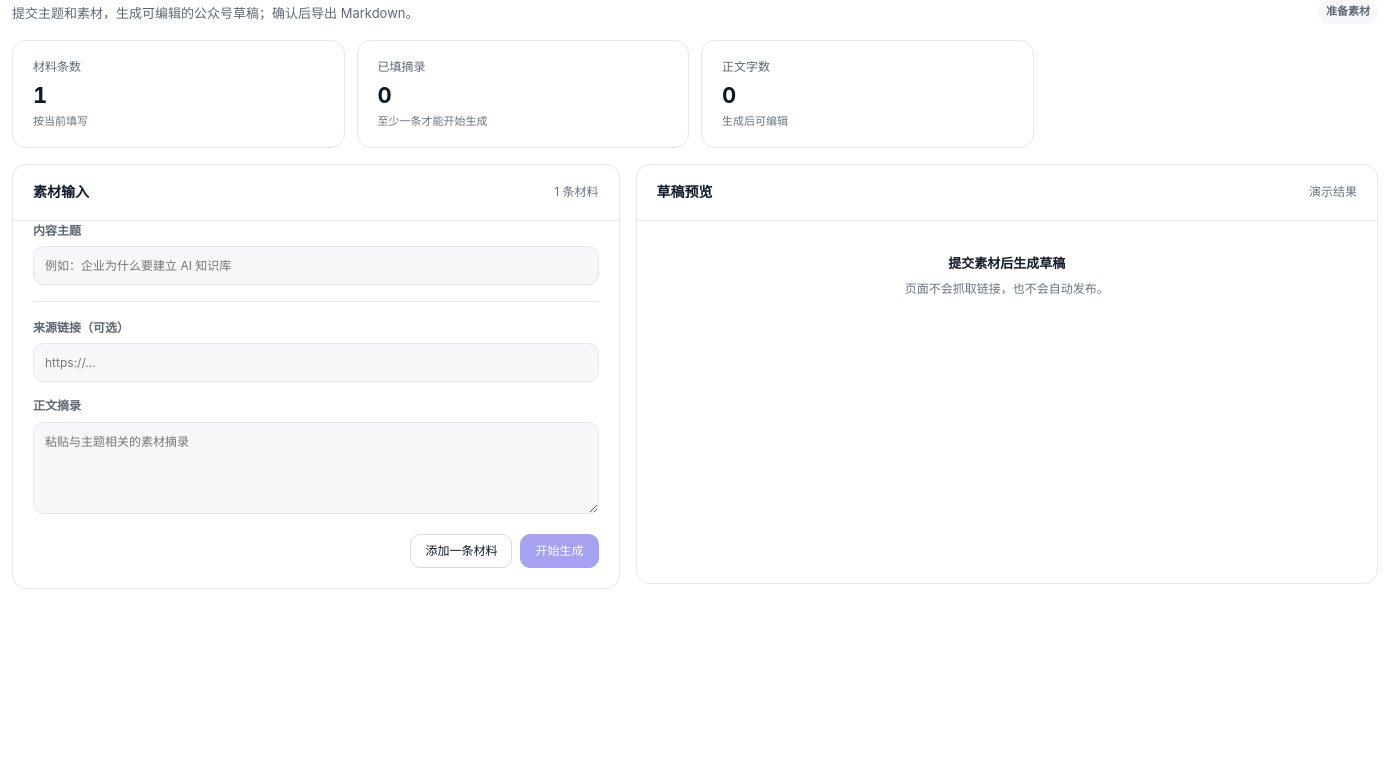
Scenario: ContentWorkbenchPage › shows failed generation recovery and regenerates the same task
In the field labelled "内容主题": (316, 265) top-left (33, 246), bottom-right (598, 285), type "失败选题"
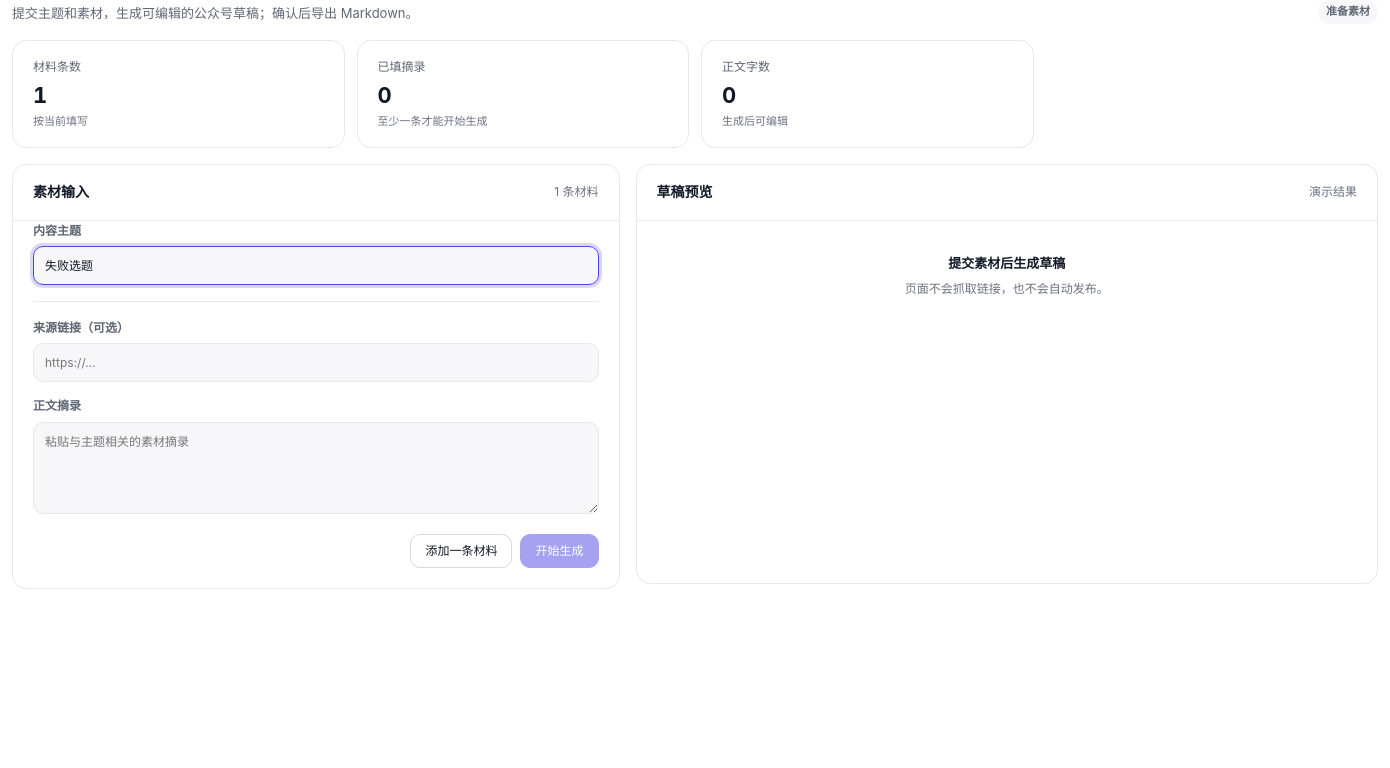
In the text box labelled "正文摘录": (316, 468) top-left (33, 422), bottom-right (598, 514), type "失败素材"
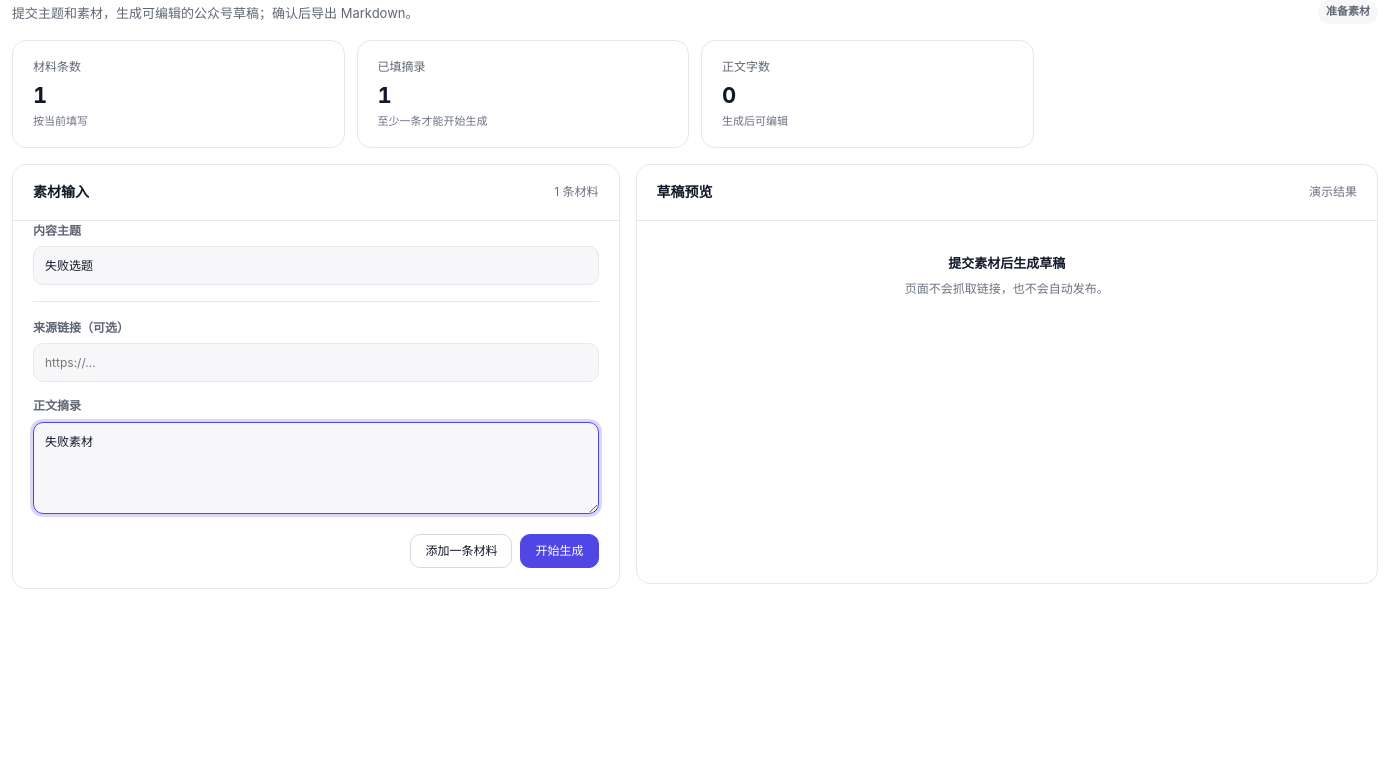
Click the button "开始生成": (560, 550) top-left (520, 534), bottom-right (598, 568)
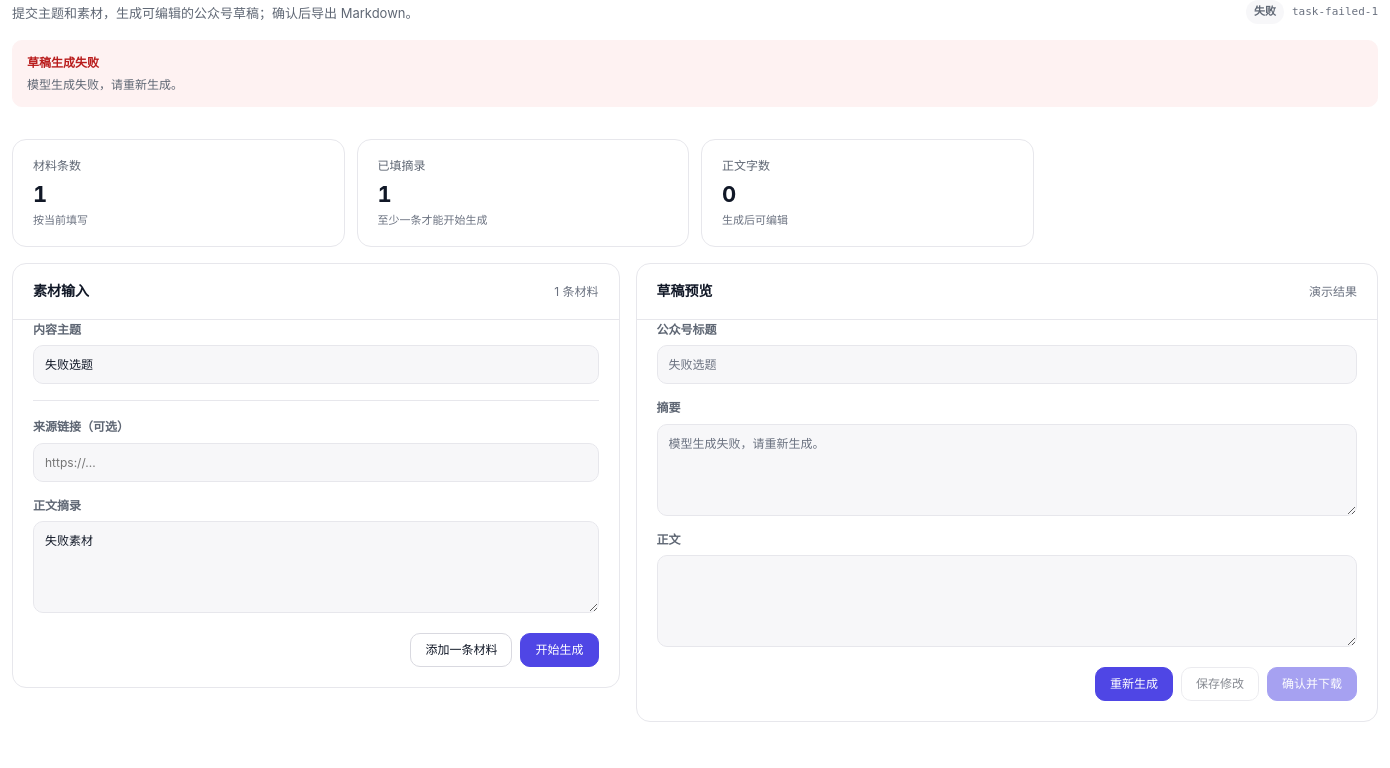
Expected: the text "失败" is shown, top-left (1246, 0), bottom-right (1284, 24)
Expected: the message with test id "generation-failure" shows "模型生成失败，请重新生成。", top-left (27, 77), bottom-right (183, 92)
Expected: the field labelled "公众号标题" is disabled, top-left (656, 345), bottom-right (1357, 384)
Click the button "重新生成": (1134, 684) top-left (1095, 667), bottom-right (1173, 701)
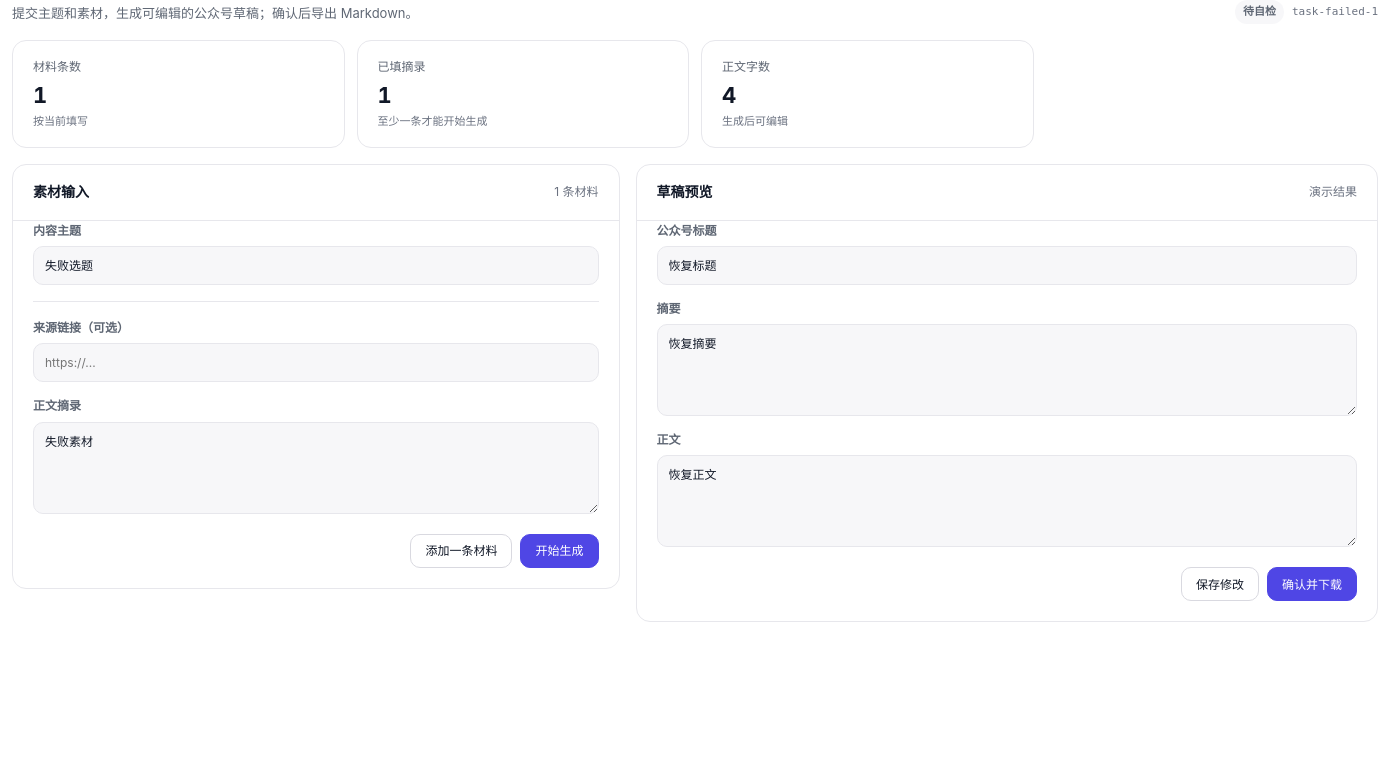
Expected: the text "待自检" is shown, top-left (1235, 0), bottom-right (1284, 24)
Expected: the field showing "恢复标题" is shown, top-left (656, 246), bottom-right (1357, 285)
